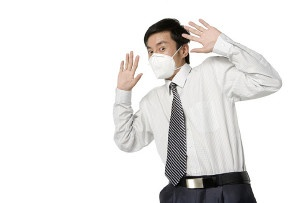Mask: (145, 39, 185, 79)
